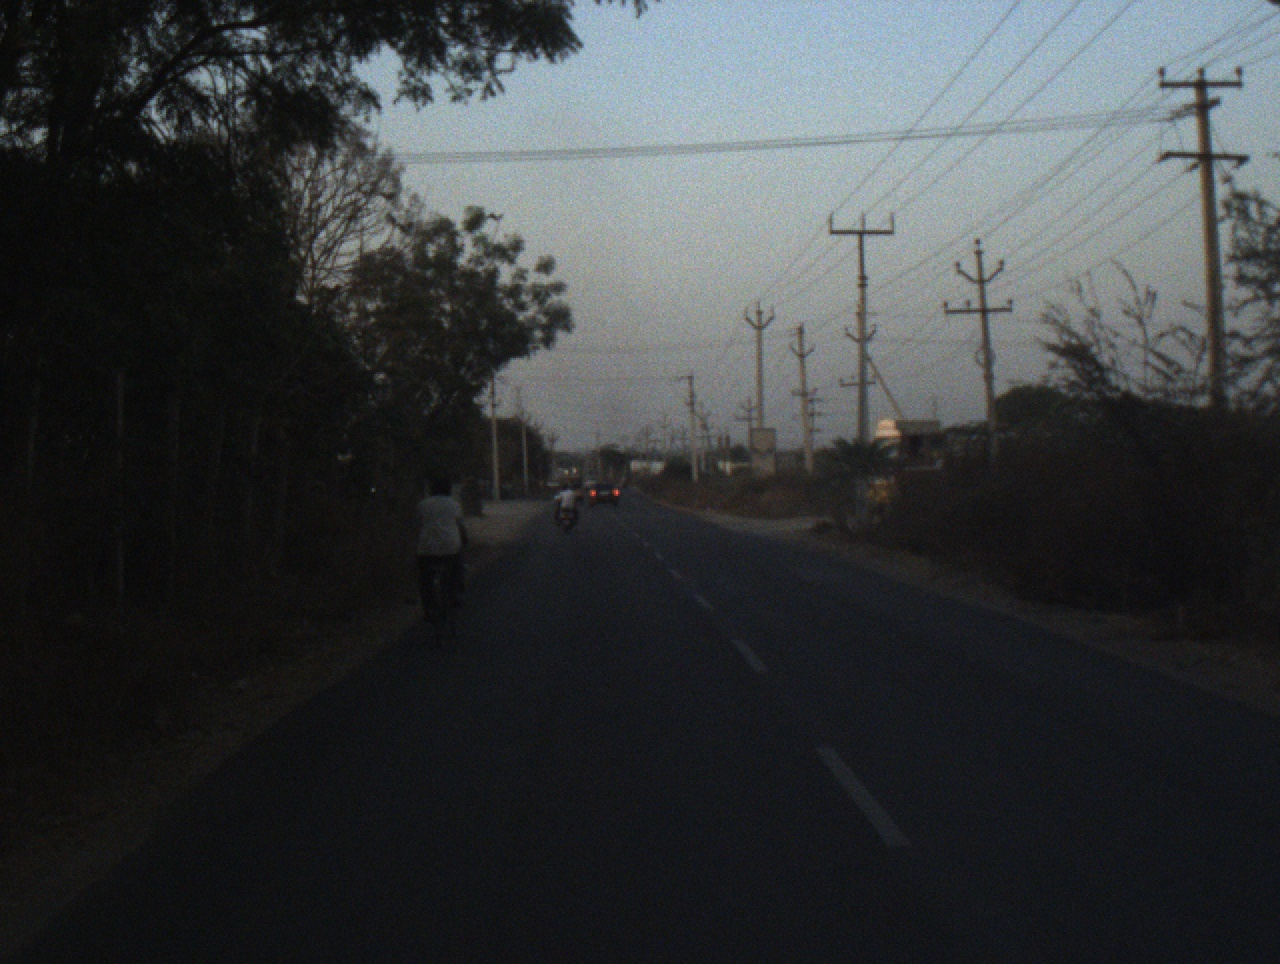bicycle: (427, 564, 462, 650)
car: (588, 480, 622, 508), (582, 477, 601, 489)
motorcycle: (556, 507, 581, 532)
rider: (408, 477, 467, 630), (550, 483, 579, 523), (560, 482, 567, 492)
vehicle fallback: (557, 463, 582, 488)
